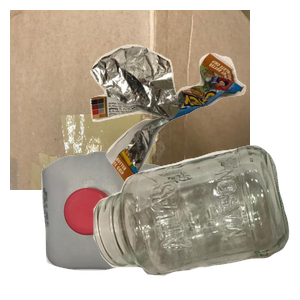cardboard: (10, 10, 250, 190)
glass: (91, 143, 300, 300)
plastic: (39, 149, 203, 300)
trash: (88, 42, 300, 219)
